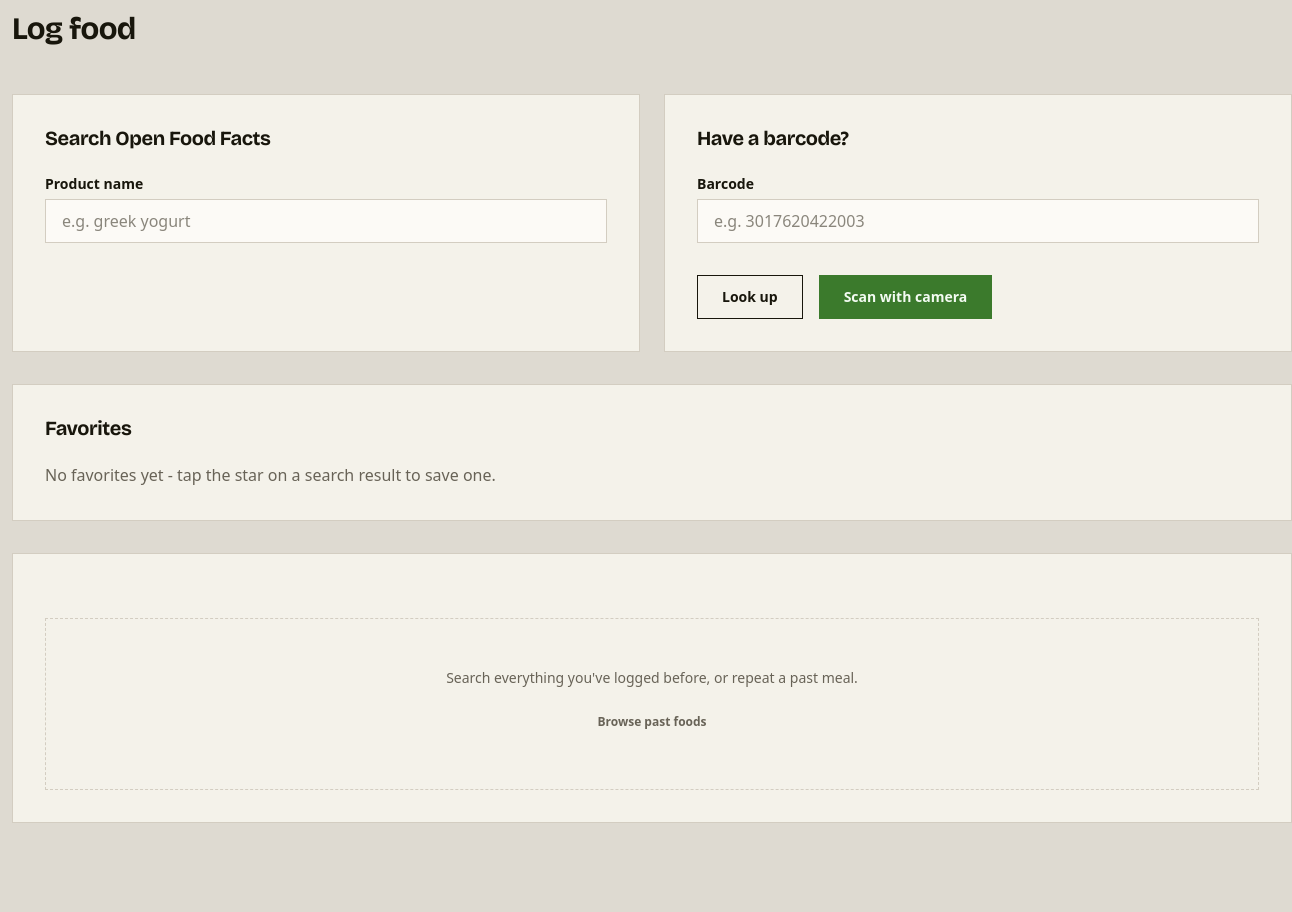
Test: LogFood search › shows a search error message
Type "nutella" into the field labelled "Product name".
click(326, 221); type("nutella")  # box 45,199 -> 607,243
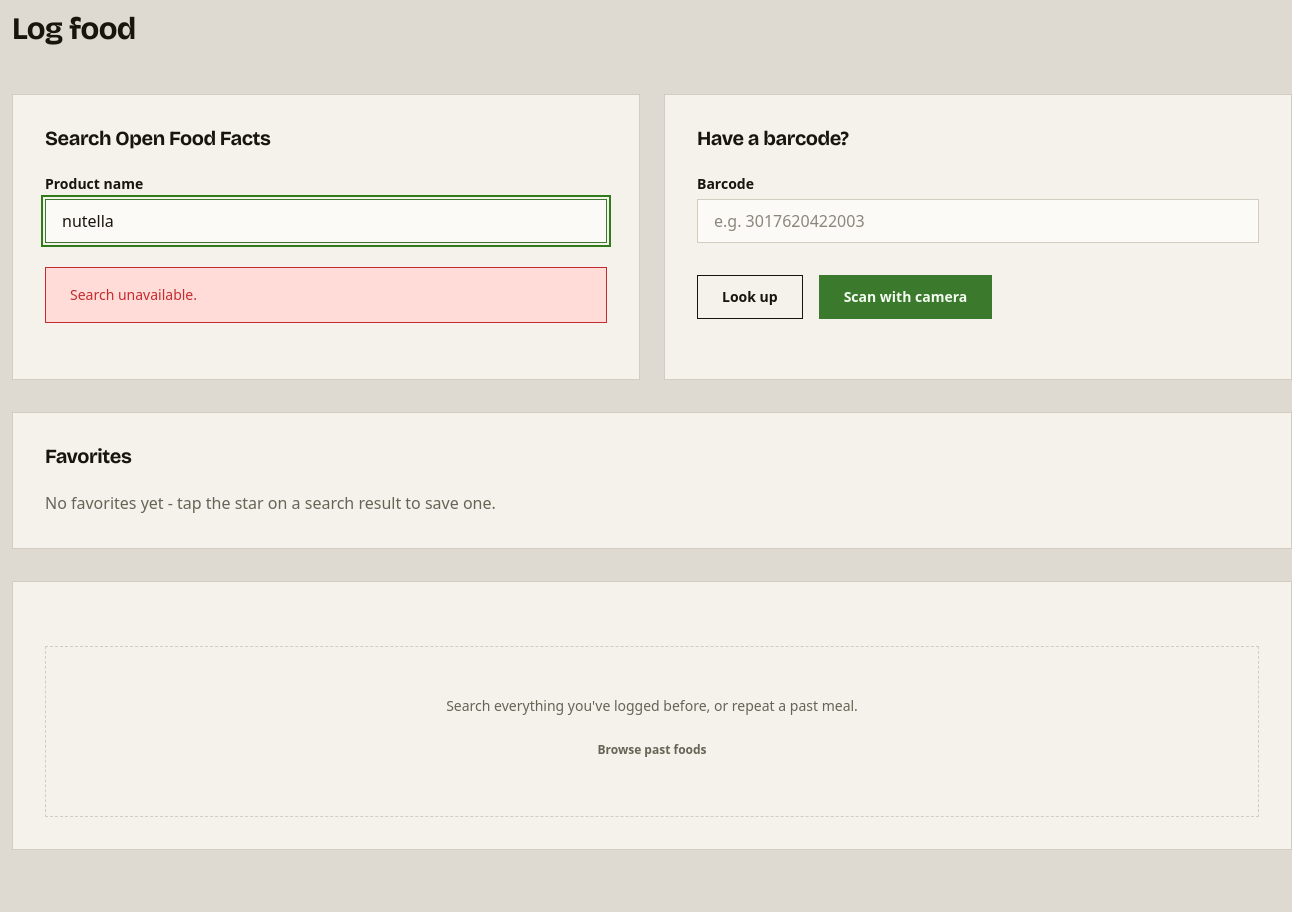
Expected: the text "Search unavailable." is shown, 45,267 -> 607,323
